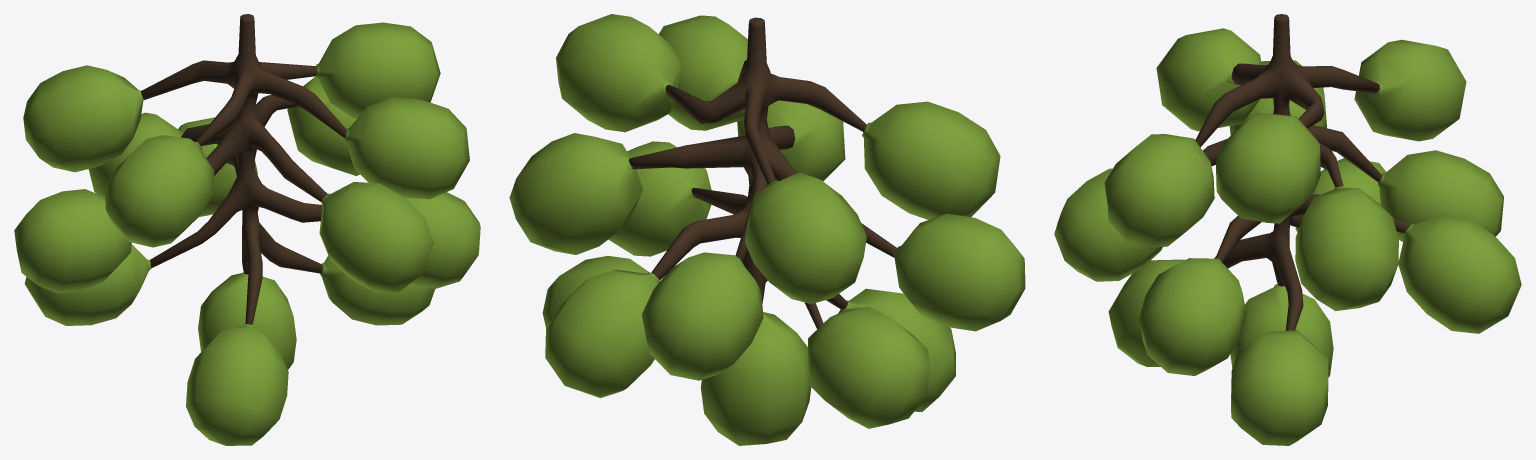
File: Uvas.fbx
The picture shows the model from 3 angles, left to right: view 1: azimuth 30°, elevation 25°; view 2: azimuth 150°, elevation 25°; view 3: azimuth 270°, elevation 25°; orthographic projection. The views are drawn at different scales.
Visible parts, largest first — view 1: Racimo de uvas; view 2: Racimo de uvas; view 3: Racimo de uvas.
Part boxes in pixels (box(x1,y1,x2,y2)): Racimo de uvas: box(14, 14, 480, 445); Racimo de uvas: box(509, 14, 1025, 445); Racimo de uvas: box(1054, 14, 1521, 445).
Bounding box in the file's own units: 21.7 × 18.59 × 20.22.
